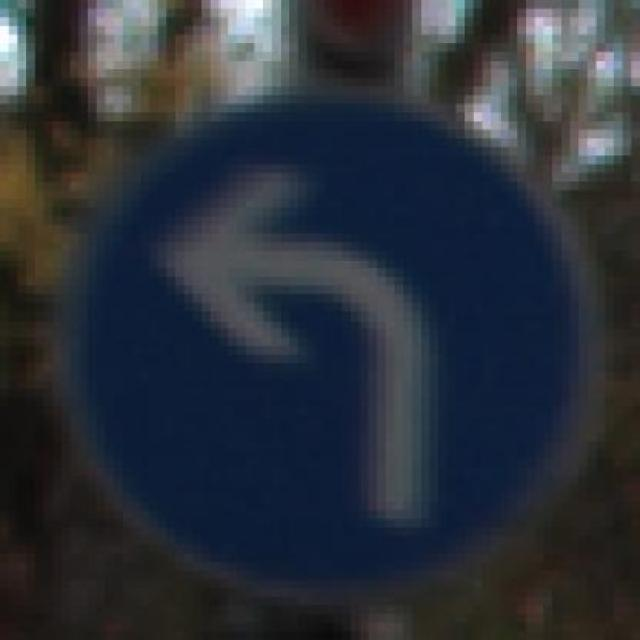Turn left ahead: (51, 78, 612, 605)
